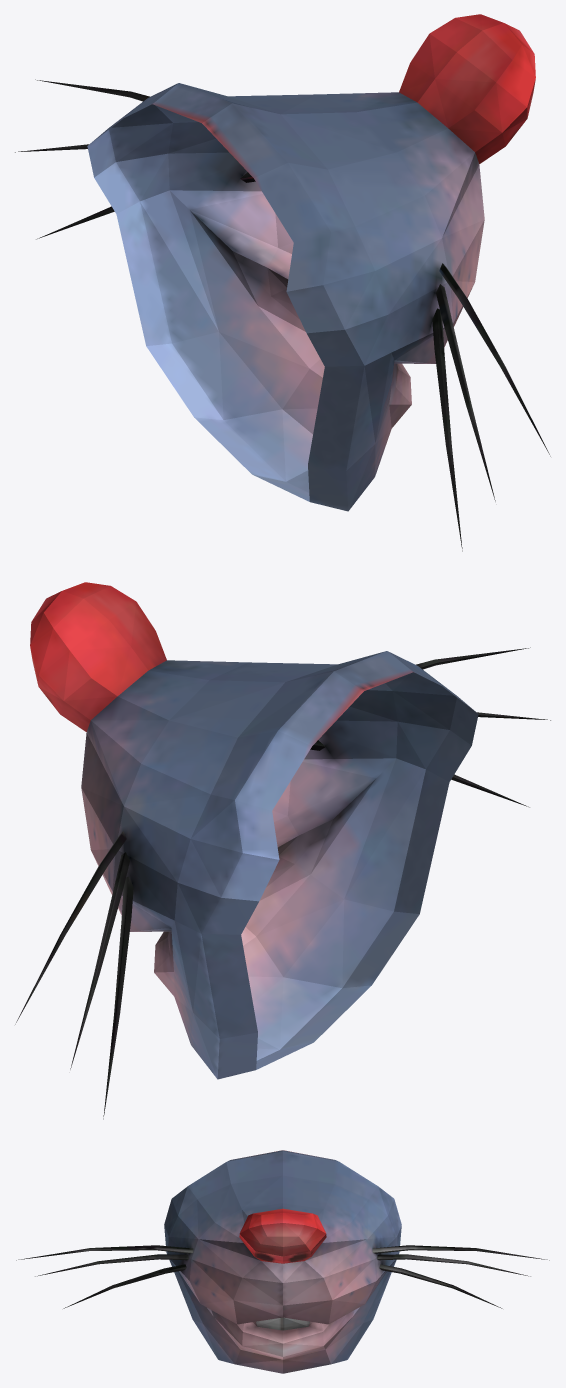
File: MOUSE MASK A.fbx
3 renders of one model, top to bottom at view 1: azimuth 30°, elevation 25°; view 2: azimuth 150°, elevation 25°; view 3: azimuth 270°, elevation 25°, orthographic. The views are drawn at different scales.
Visible parts, largest first — view 1: MOUSE_MASK_A; view 2: MOUSE_MASK_A; view 3: MOUSE_MASK_A.
Part boxes in pixels (left/top/right/bottom): MOUSE_MASK_A: left=15, top=14, right=550, bottom=551; MOUSE_MASK_A: left=15, top=582, right=550, bottom=1119; MOUSE_MASK_A: left=16, top=1150, right=549, bottom=1373.
Size of the model in its own units: 10.98 by 12.74 by 29.51.
